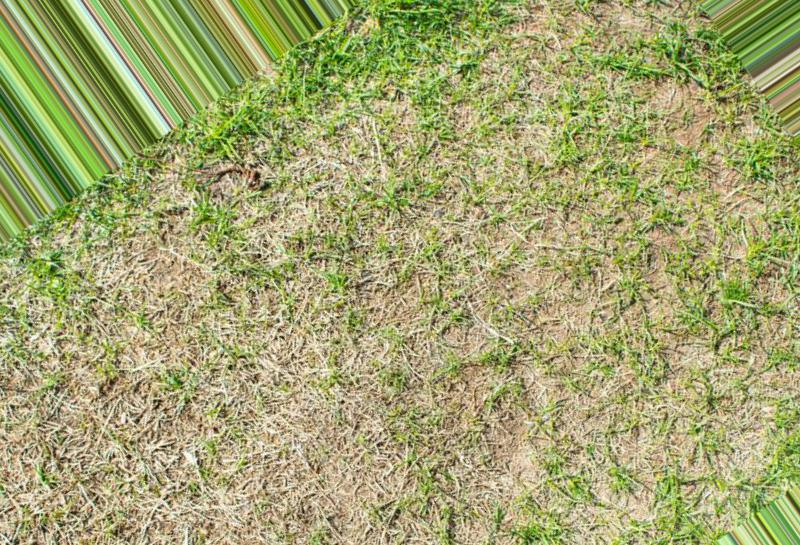patch: (272, 211, 418, 333), (279, 386, 436, 490), (527, 203, 651, 326), (556, 391, 691, 495), (83, 337, 232, 429), (694, 257, 800, 374), (443, 197, 499, 263), (424, 113, 514, 150)
